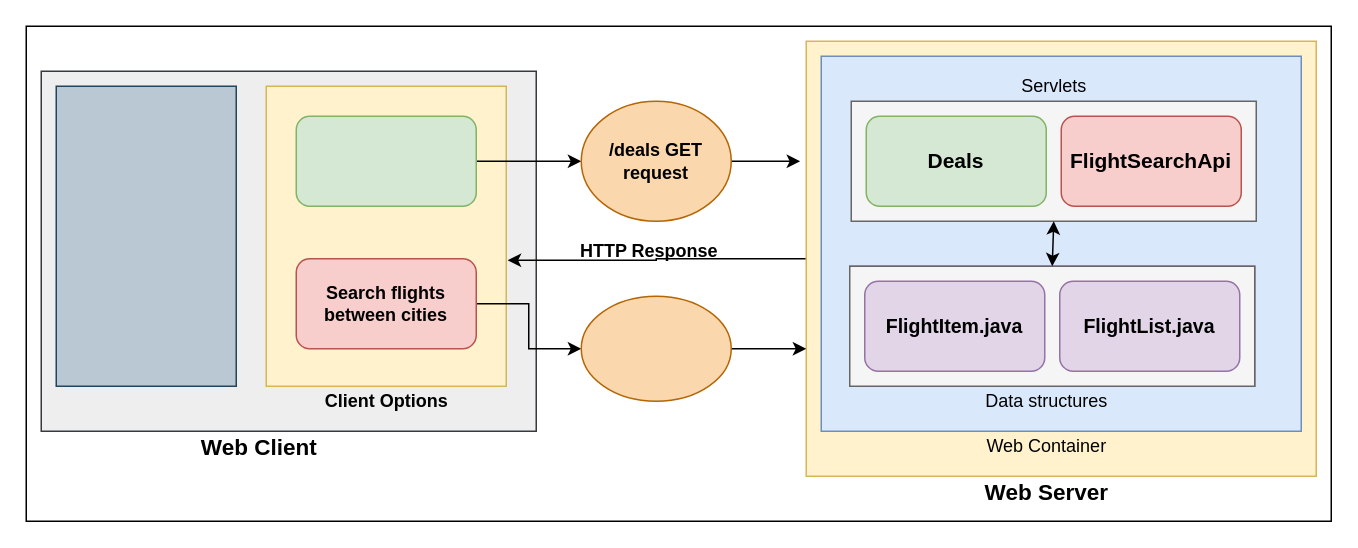
Some shapes in this 1358 by 548 pixel diagram are drawn without their labels. The shapes that lost their labels are listed below. From the top down, each one's centre as x and y in pixels, then its label:
At (385,160): "Get Deals (default)".
At (145,235): "Appplication Frontend".
At (655,348): "/flights POST request".
